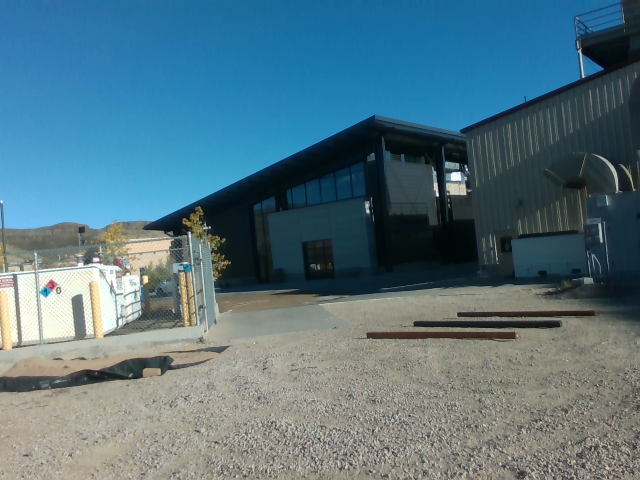Dunnage: (348, 307, 604, 344)
